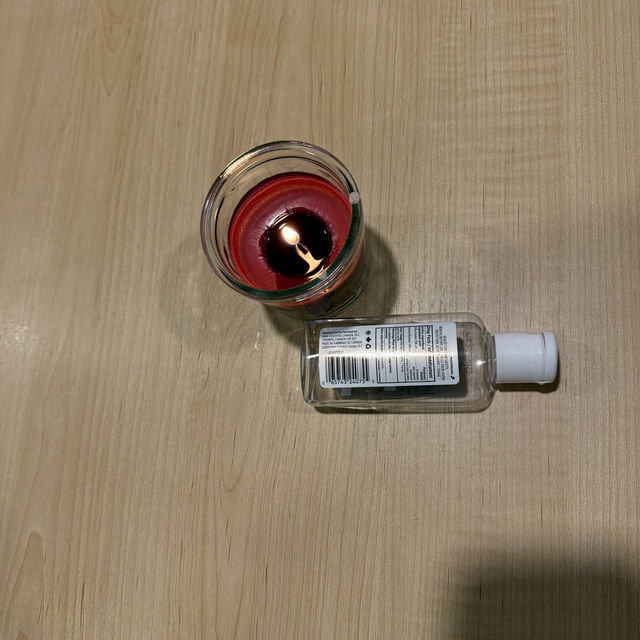Candle: (199, 140, 372, 325)
Sanitizer: (300, 313, 563, 416)
